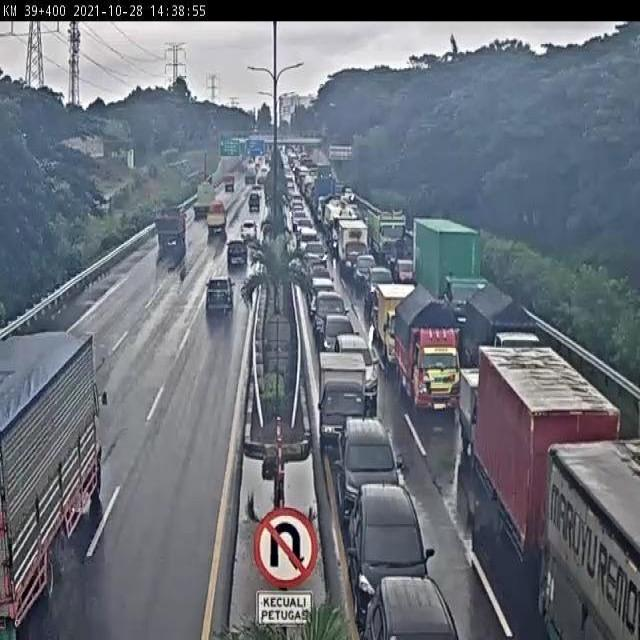big truck: (479, 345, 626, 595), (0, 332, 109, 640), (411, 215, 485, 336), (189, 181, 216, 223), (243, 166, 255, 186)
car: (349, 486, 436, 618), (335, 418, 399, 530), (363, 577, 460, 640), (335, 336, 380, 403), (319, 315, 360, 369), (312, 290, 350, 342), (205, 276, 238, 313), (367, 265, 395, 308), (309, 276, 334, 316), (300, 252, 323, 295), (297, 226, 319, 262), (226, 236, 250, 268), (355, 255, 376, 288), (238, 225, 259, 248), (250, 193, 261, 216), (250, 184, 262, 201), (254, 176, 266, 191)
small truck: (461, 278, 540, 402), (393, 287, 462, 416), (458, 365, 521, 468), (317, 348, 369, 449), (377, 283, 420, 369), (339, 220, 369, 276), (152, 204, 185, 249), (202, 207, 227, 244), (221, 176, 234, 195)
